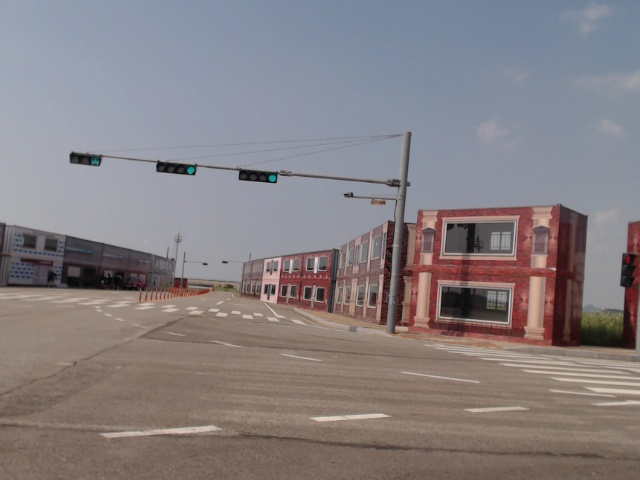straight_green_4: (237, 168, 279, 183), (156, 161, 197, 176)
